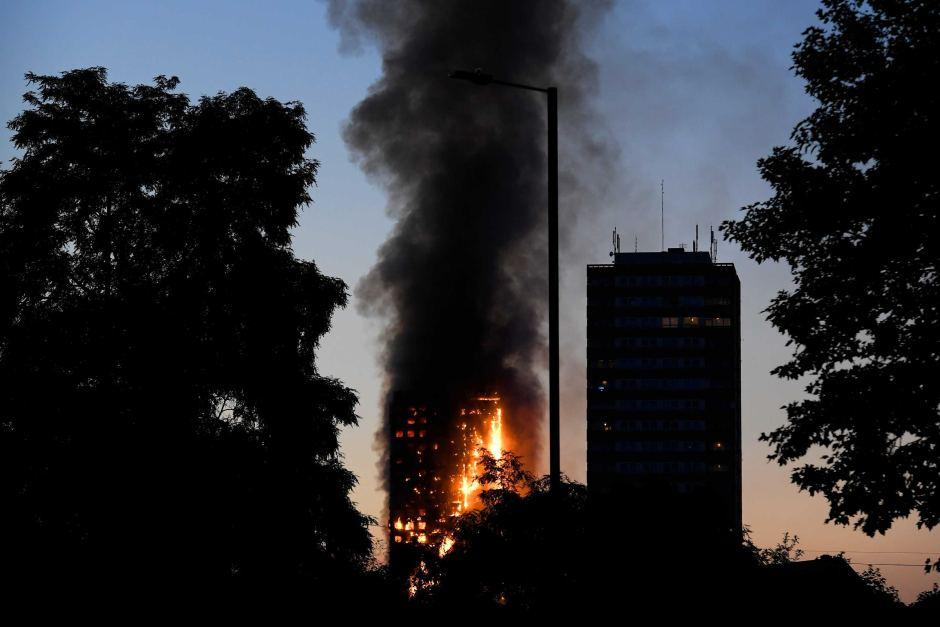Fire: (393, 393, 527, 568)
